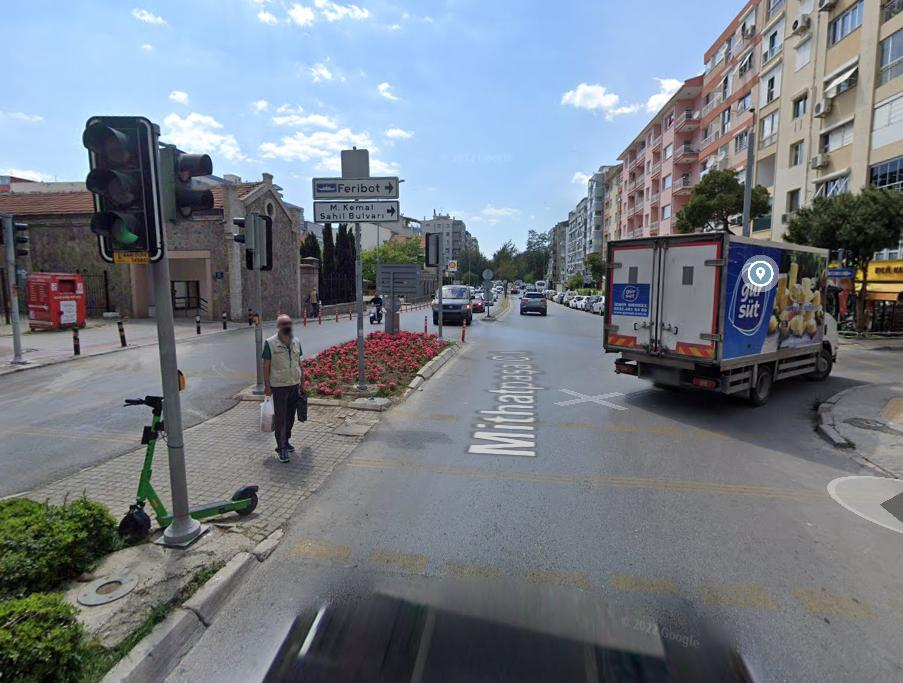greenlight: (88, 113, 155, 261)
